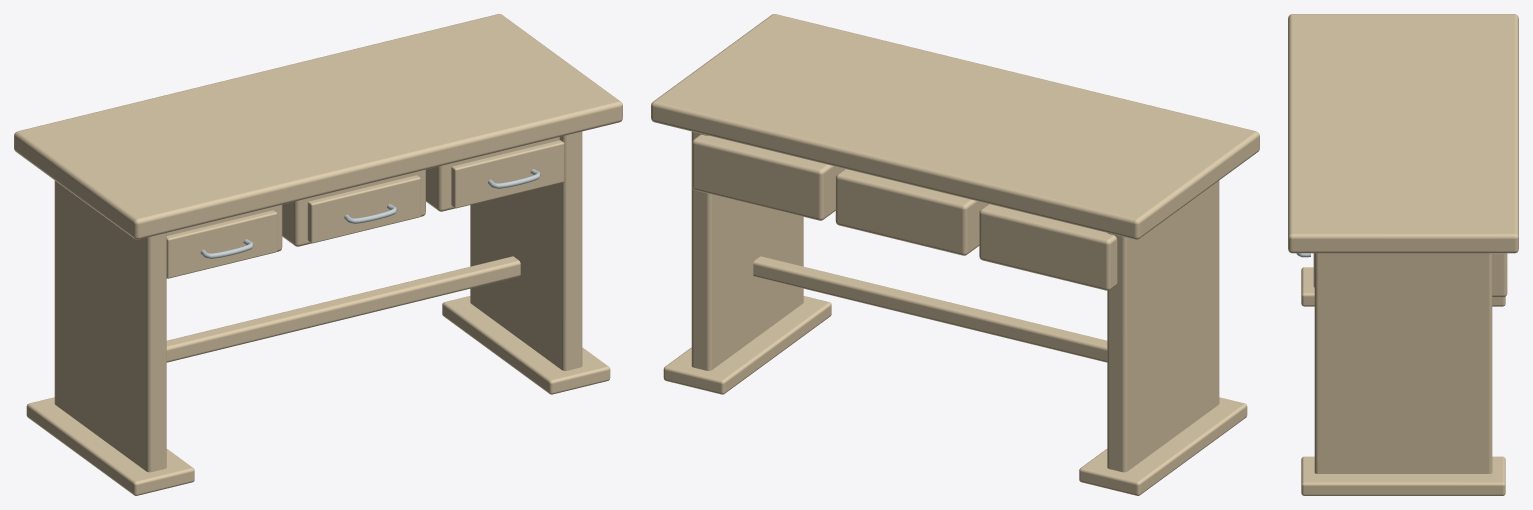
Rendered from cheesemaking-and-dairy-cellar-cheese-wrapping-bench-766a709d__30897.glb.
3 views of the same model, side by side, from view 1: azimuth 30°, elevation 25°; view 2: azimuth 150°, elevation 25°; view 3: azimuth 270°, elevation 25° (orthographic). The views are drawn at different scales.
Parts seen in each view (by area): view 1: cheese-wrapping-bench; view 2: cheese-wrapping-bench; view 3: cheese-wrapping-bench.
Boxes of the visible parts, x1,y1,x2,y2 form: cheese-wrapping-bench: (14, 14, 622, 495); cheese-wrapping-bench: (651, 14, 1259, 495); cheese-wrapping-bench: (1288, 14, 1518, 495).
Bounding box in the file's own units: 1.6 × 0.8851 × 0.7001.
